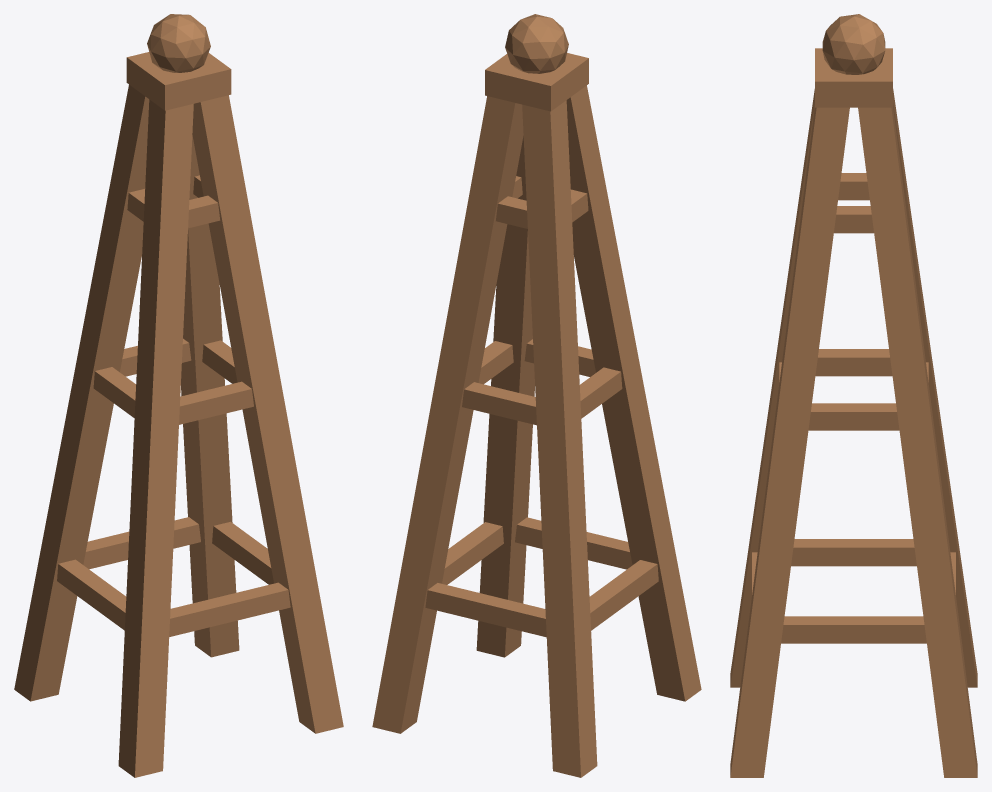
Rendered from FMS_Garden_Obelisk.fbx.
3 views of the same model, side by side, from view 1: azimuth 30°, elevation 25°; view 2: azimuth 150°, elevation 25°; view 3: azimuth 270°, elevation 25° (orthographic). The views are drawn at different scales.
Visible parts, largest first — view 1: FMS_Garden_Obelisk_Body; view 2: FMS_Garden_Obelisk_Body; view 3: FMS_Garden_Obelisk_Body.
Boxes of the visible parts, <box> form: FMS_Garden_Obelisk_Body: <box>14,14,343,777</box>; FMS_Garden_Obelisk_Body: <box>372,14,701,777</box>; FMS_Garden_Obelisk_Body: <box>730,14,977,777</box>.
Size of the model in its own units: 0.6 by 1.9 by 0.6.
1 material, 1 textured.
